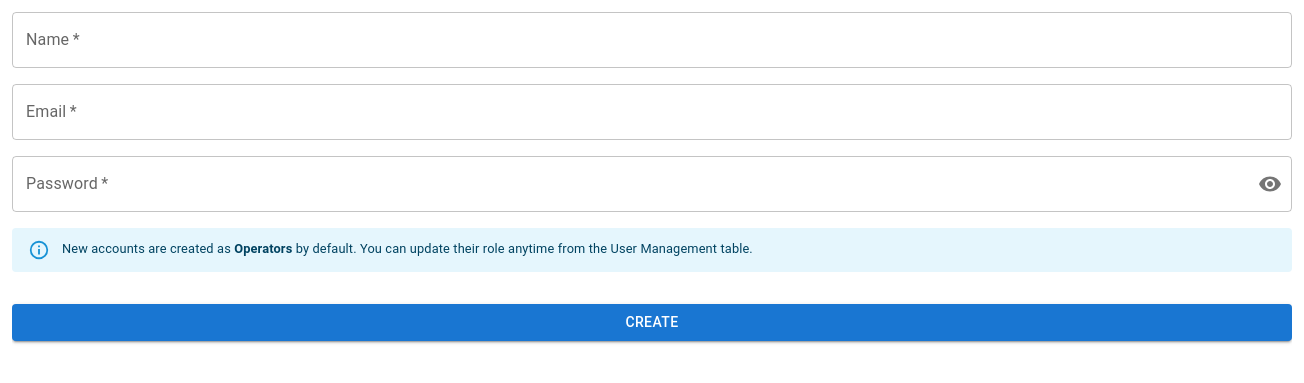
Test: CreateUserForm › rejects an invalid email address
Type "Jane Doe" into the field labelled "Name *" at (652, 40), box [12,12,1292,68]
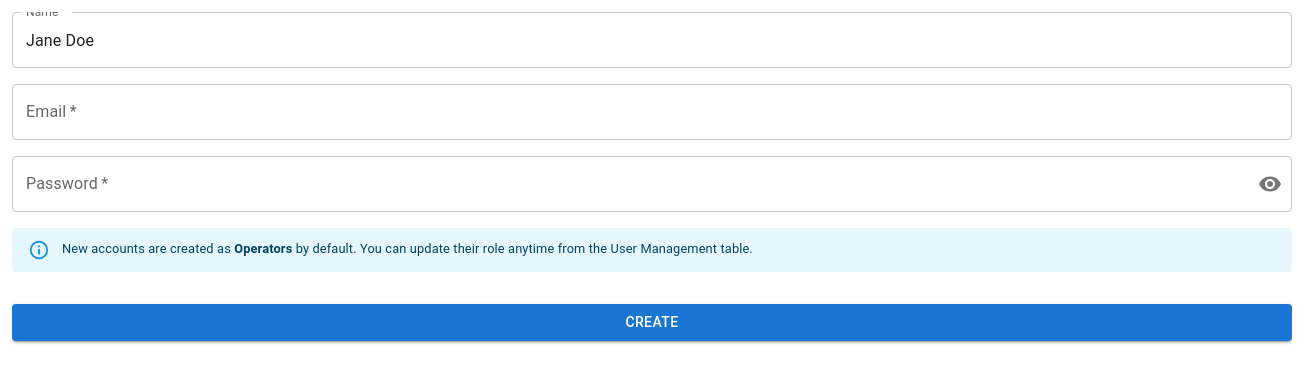
Type "not-an-email" into the field labelled "Email *" at (652, 112), box [12,84,1292,140]
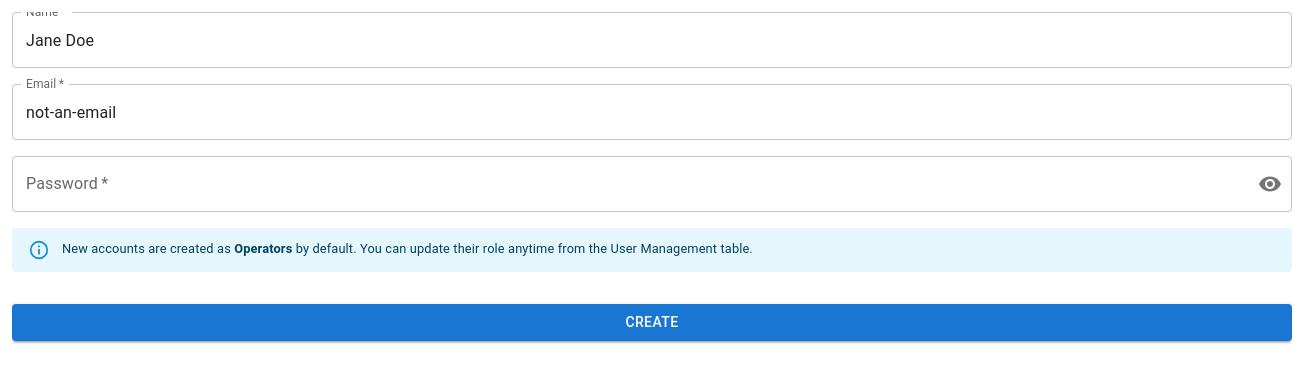
Type "secret123" into the password field labelled "Password *" at (627, 184), box [12,156,1242,212]
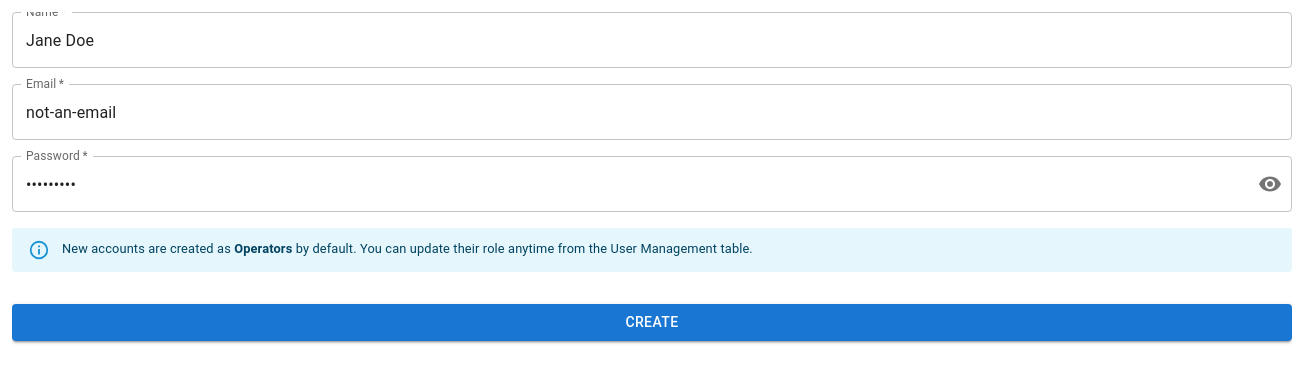
Submit the form
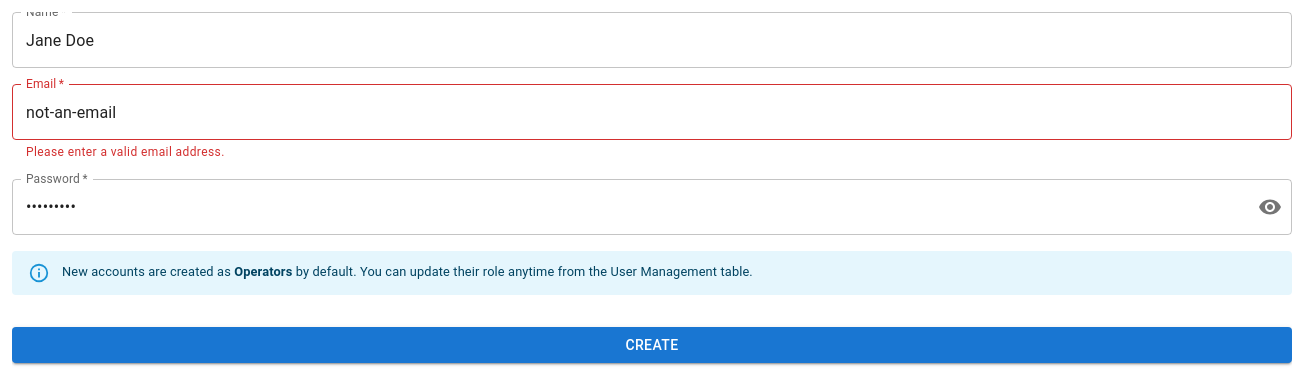
Result: the text "Please enter a valid email address." is shown at [26,145,225,159]
